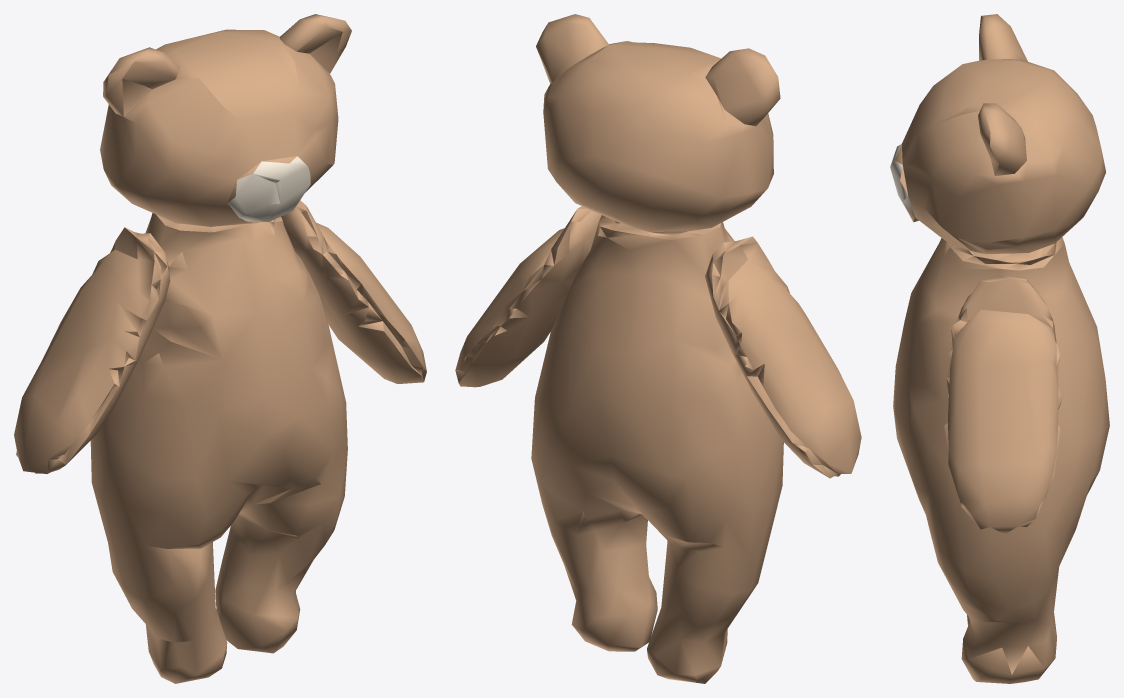
Rendered from rebear.glb.
The picture shows the model from 3 angles, left to right: view 1: azimuth 30°, elevation 25°; view 2: azimuth 150°, elevation 25°; view 3: azimuth 270°, elevation 25°; orthographic projection. The views are drawn at different scales.
Parts seen in each view (by area): view 1: Rebear; view 2: Rebear; view 3: Rebear.
Part boxes in pixels (box(x1,y1,x2,y2)): Rebear: box(14, 14, 426, 683); Rebear: box(455, 14, 861, 683); Rebear: box(890, 14, 1109, 683).
Size of the model in its own units: 1.16 by 1.82 by 0.5824.
